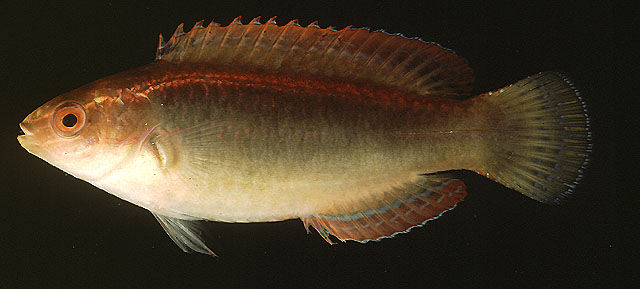fish: (18, 15, 592, 257)
